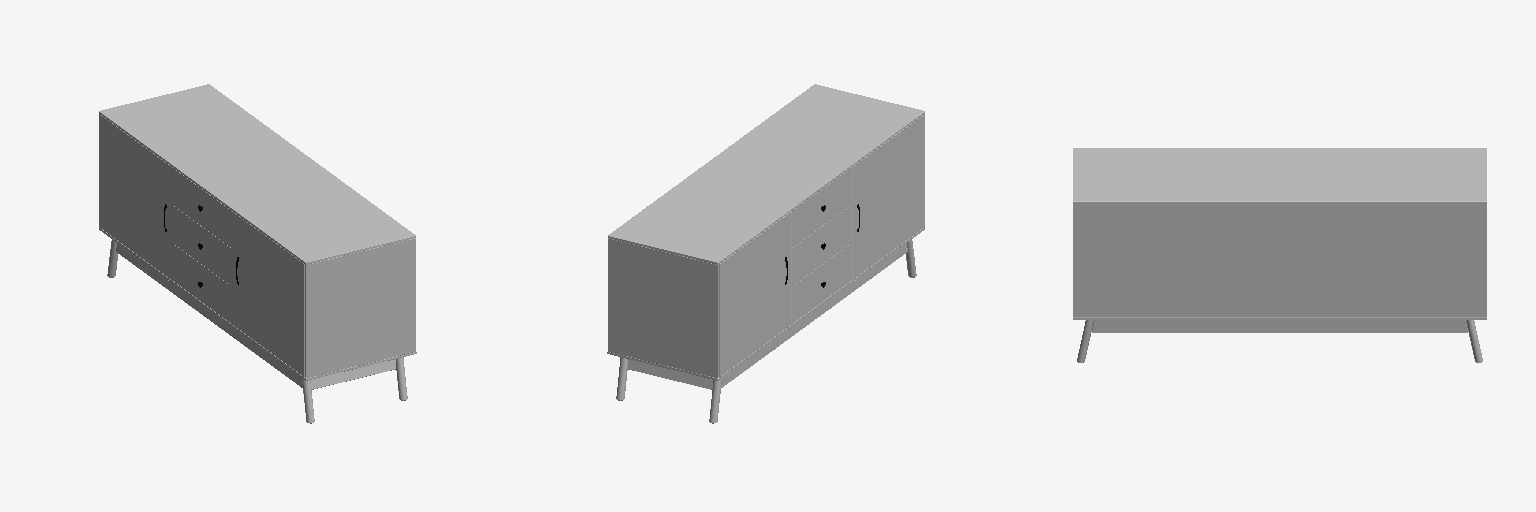
File: Sideboard.obj
3 renders of one model, left to right at view 1: azimuth 30°, elevation 25°; view 2: azimuth 150°, elevation 25°; view 3: azimuth 270°, elevation 25°, orthographic.
Parts seen in each view (by area): view 1: Plane, Plane.006, Plane.002, Plane.008, Plane.007, Plane.009, Plane.004, Circle, Plane.005, Plane.001; view 2: Plane, Plane.006, Plane.002, Plane.008, Plane.007, Plane.009, Plane.004, Circle, Plane.005, Plane.001; view 3: Plane.003, Plane, Plane.004, Plane.001, Circle.
Part boxes in pixels (left/top/right/bottom): Plane: left=99, top=84, right=415, bottom=264; Plane.006: left=100, top=115, right=304, bottom=376; Plane.002: left=99, top=114, right=415, bottom=377; Plane.008: left=173, top=206, right=230, bottom=285; Plane.007: left=173, top=168, right=230, bottom=246; Plane.009: left=173, top=244, right=230, bottom=322; Plane.004: left=116, top=243, right=302, bottom=387; Circle: left=107, top=240, right=407, bottom=423; Plane.005: left=311, top=359, right=395, bottom=389; Plane.001: left=99, top=228, right=416, bottom=380; Plane: left=608, top=84, right=924, bottom=264; Plane.006: left=719, top=115, right=923, bottom=376; Plane.002: left=608, top=114, right=924, bottom=377; Plane.008: left=793, top=206, right=850, bottom=285; Plane.007: left=793, top=168, right=850, bottom=246; Plane.009: left=793, top=244, right=850, bottom=322; Plane.004: left=721, top=243, right=907, bottom=387; Circle: left=616, top=240, right=916, bottom=423; Plane.005: left=628, top=359, right=712, bottom=389; Plane.001: left=607, top=228, right=924, bottom=380; Plane.003: left=1075, top=204, right=1484, bottom=316; Plane: left=1073, top=148, right=1486, bottom=203; Plane.004: left=1092, top=320, right=1467, bottom=332; Plane.001: left=1073, top=317, right=1486, bottom=319; Circle: left=1077, top=320, right=1482, bottom=362.
Size of the model in its own units: 0.5138 by 0.7095 by 1.62.